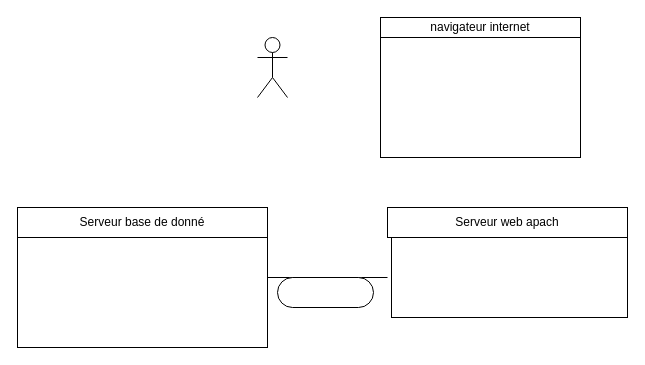
Image size: 645x365. Some labels were removed from this diagram. The centre of each missing label's shape, as x and y in pixels:
"Actor" belongs at (x=272, y=67).
"Serveur ftp" belongs at (x=325, y=292).
